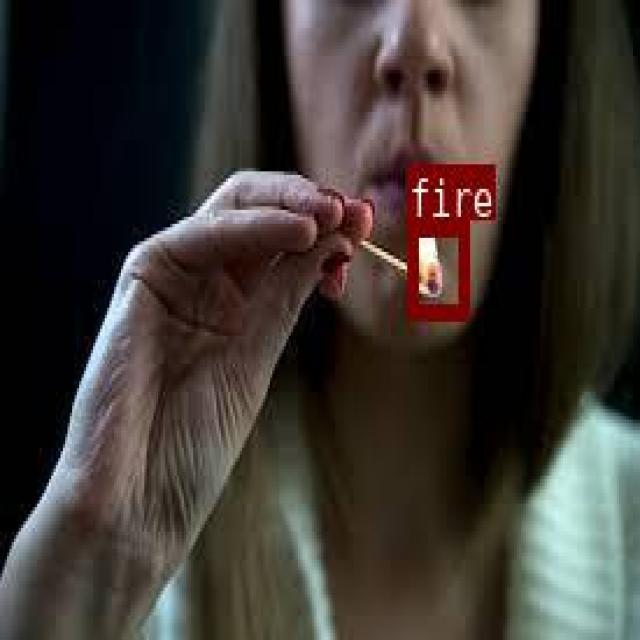fire: (406, 220, 466, 315)
